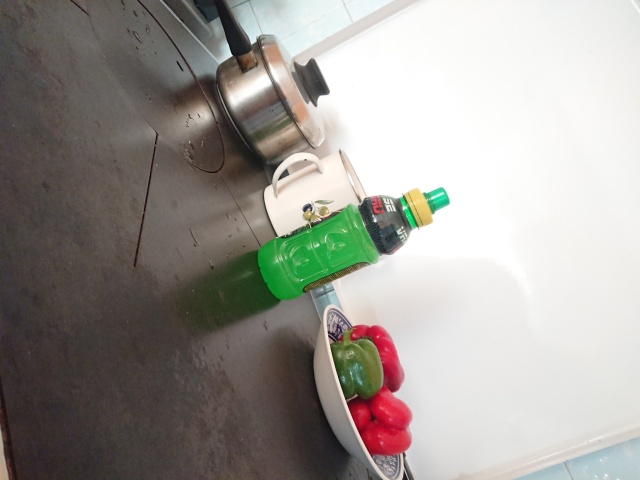Vindi Iso Sport Lemon-Grapefruit 500mL: (254, 185, 453, 303)
